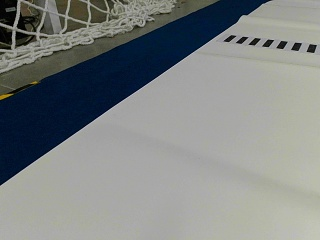crosswalk: (220, 33, 317, 53)
